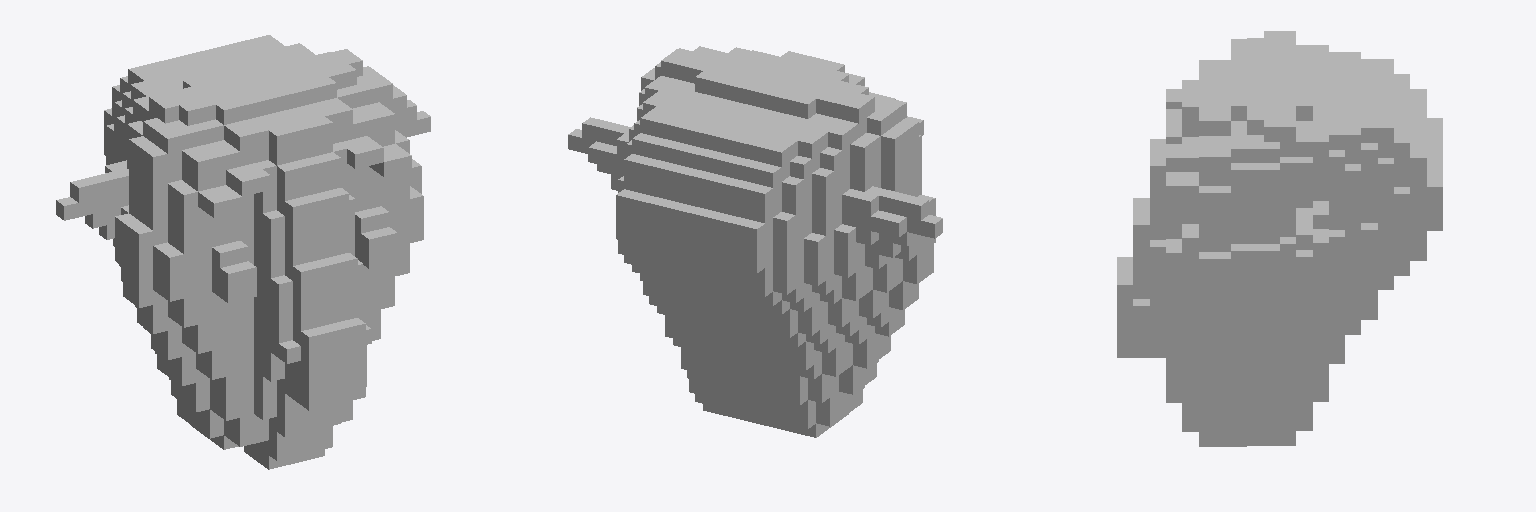
Rendered from alien friend.obj.
The picture shows the model from 3 angles: view 1: azimuth 30°, elevation 25°; view 2: azimuth 150°, elevation 25°; view 3: azimuth 270°, elevation 25°; orthographic projection.
Parts seen in each view (by area): view 1: alien friend; view 2: alien friend; view 3: alien friend.
Part boxes in pixels (left/top/right/bottom): alien friend: left=56, top=35, right=430, bottom=469; alien friend: left=568, top=46, right=942, bottom=437; alien friend: left=1117, top=31, right=1442, bottom=446.
Size of the model in its own units: 26 by 24 by 20.